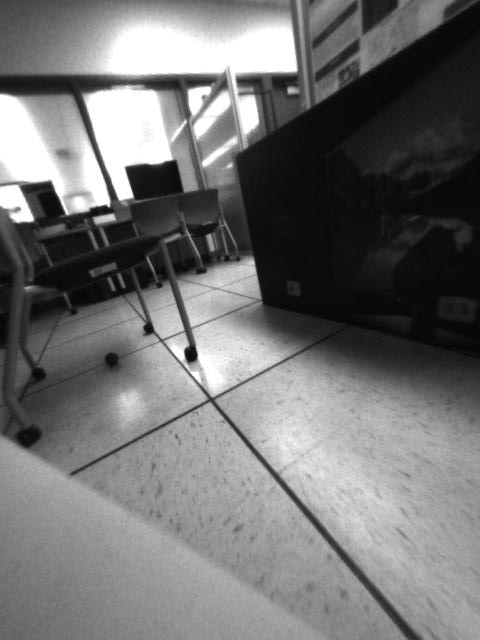dogtoy: (100, 346, 127, 374)
